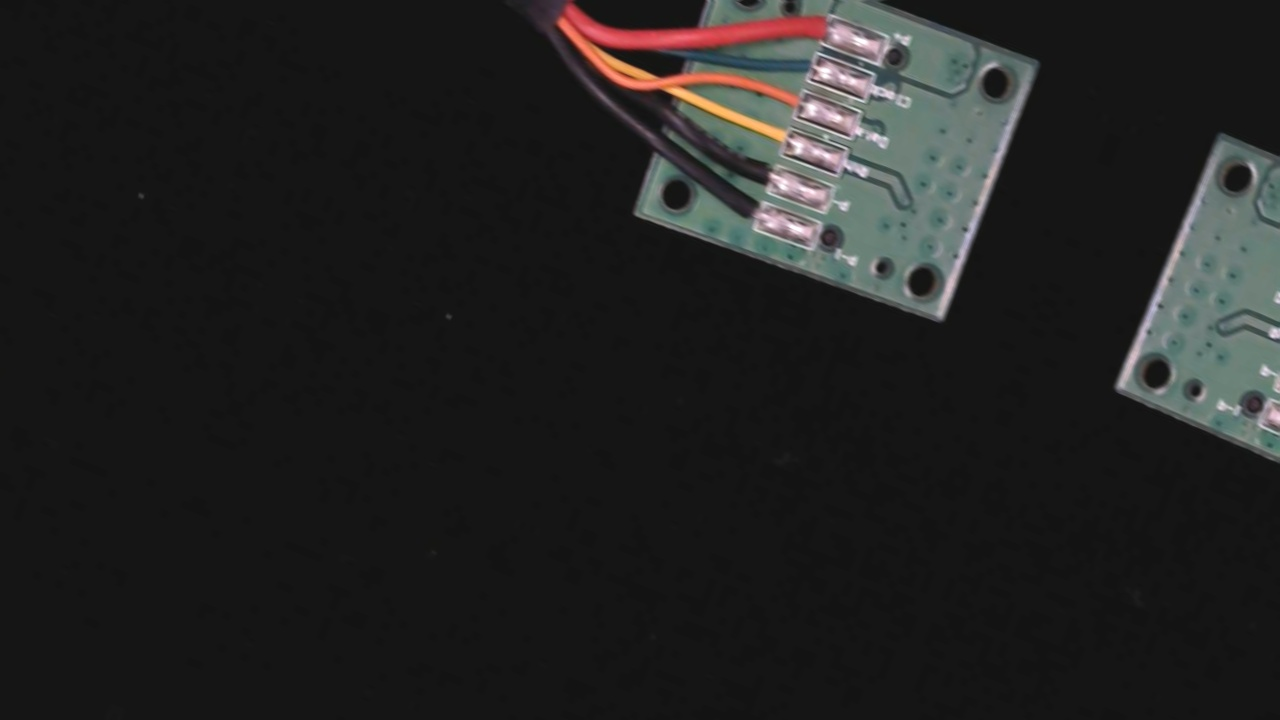Black: (721, 146, 794, 195)
Black1: (716, 185, 780, 234)
Green: (768, 36, 836, 85)
Orange: (754, 73, 820, 122)
Red: (780, 0, 849, 47)
Yellow: (734, 107, 809, 160)
